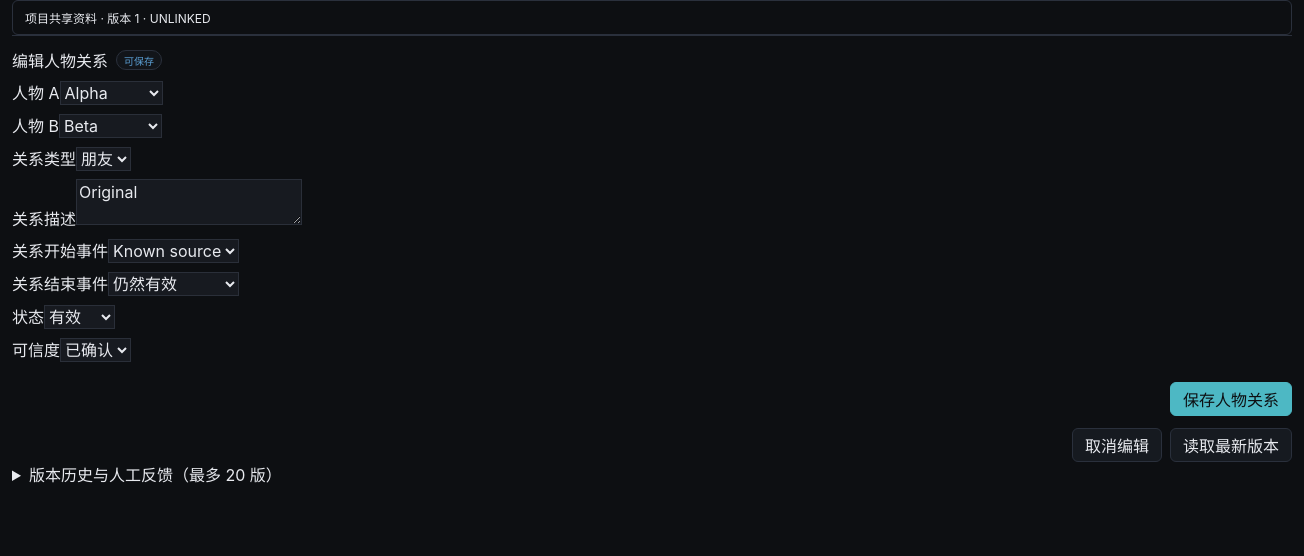
Test: keeps conflict drafts after a 409 and cancel makes no second write
The width and height of the screenshot is (1304, 556).
Step 1. Replace the text in the text box labelled "关系描述" with "Conflict draft" → x=189, y=202, box top-left (76, 179), bottom-right (302, 225)
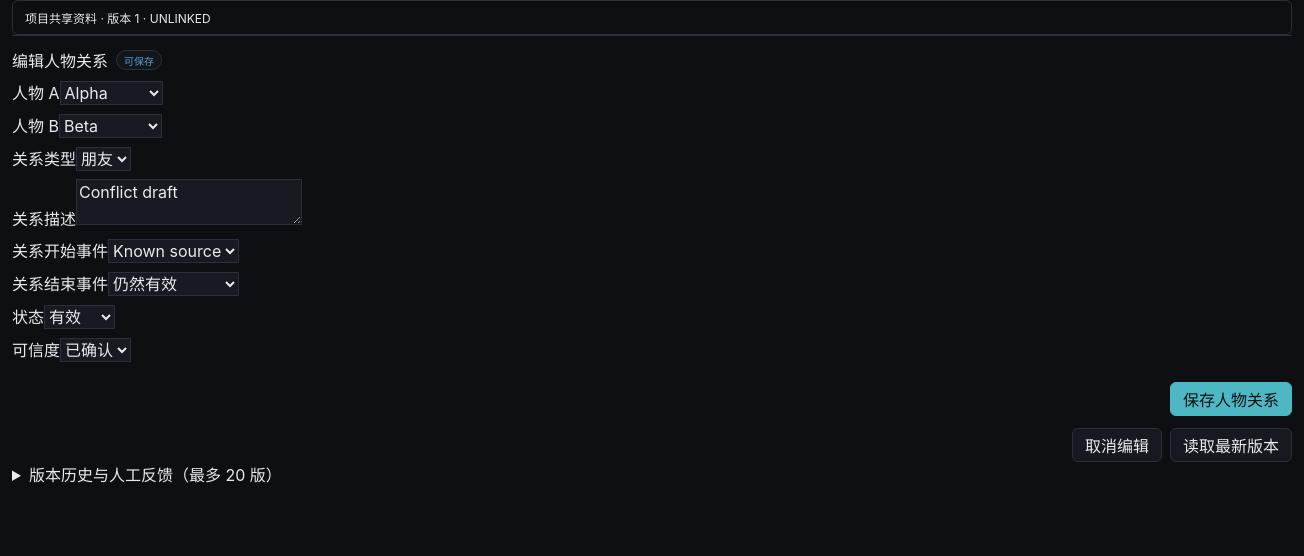
Step 2. Click the button "保存人物关系" → x=1231, y=399, box top-left (1170, 382), bottom-right (1292, 416)
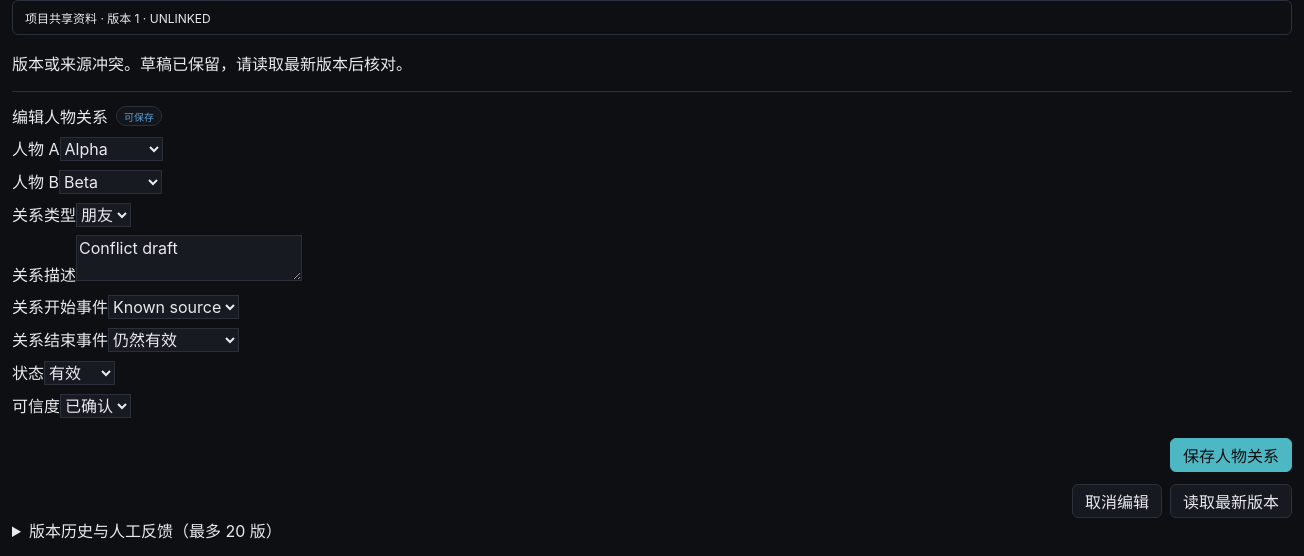
Now the message "版本或来源冲突。草稿已保留，请读取最新版本后核对。" is shown, box top-left (12, 54), bottom-right (412, 74)
Now the button "保存人物关系" is disabled, box top-left (1170, 438), bottom-right (1292, 472)
Step 3. Click the button "取消编辑" → x=1117, y=501, box top-left (1072, 484), bottom-right (1162, 518)
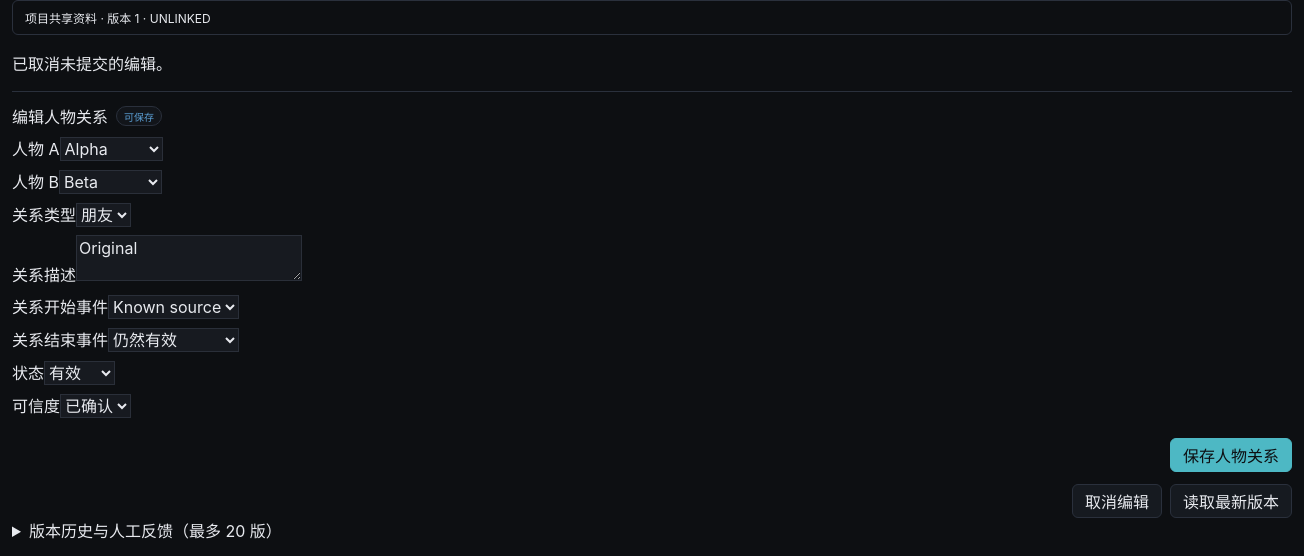
Now the text box labelled "关系描述" holds "Original", box top-left (76, 235), bottom-right (302, 281)
